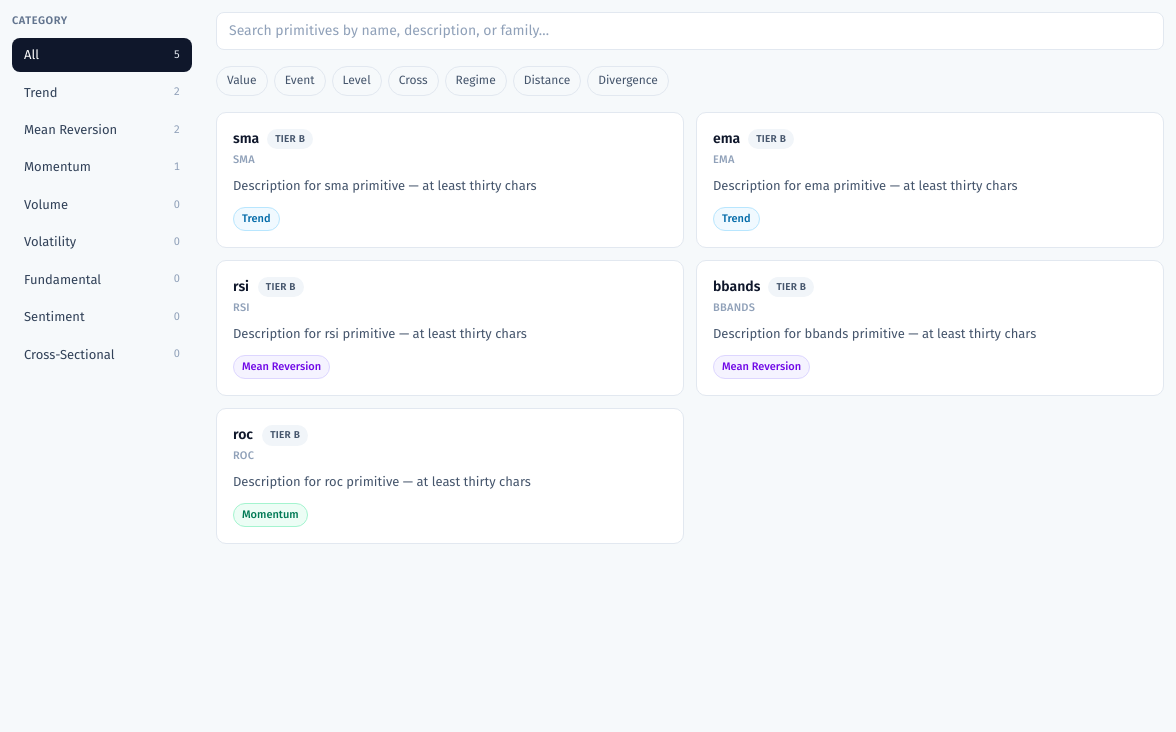
Test: SignalCatalogBrowser › shows empty state when no primitives match
The width and height of the screenshot is (1176, 732).
expect the text "sma" is shown: met, box [233,129,259,149]
Type "definitely-not-in-the-catalog-xyzzy" into the search field with test id "catalog-search" at (690, 31), box [216,12,1164,50]
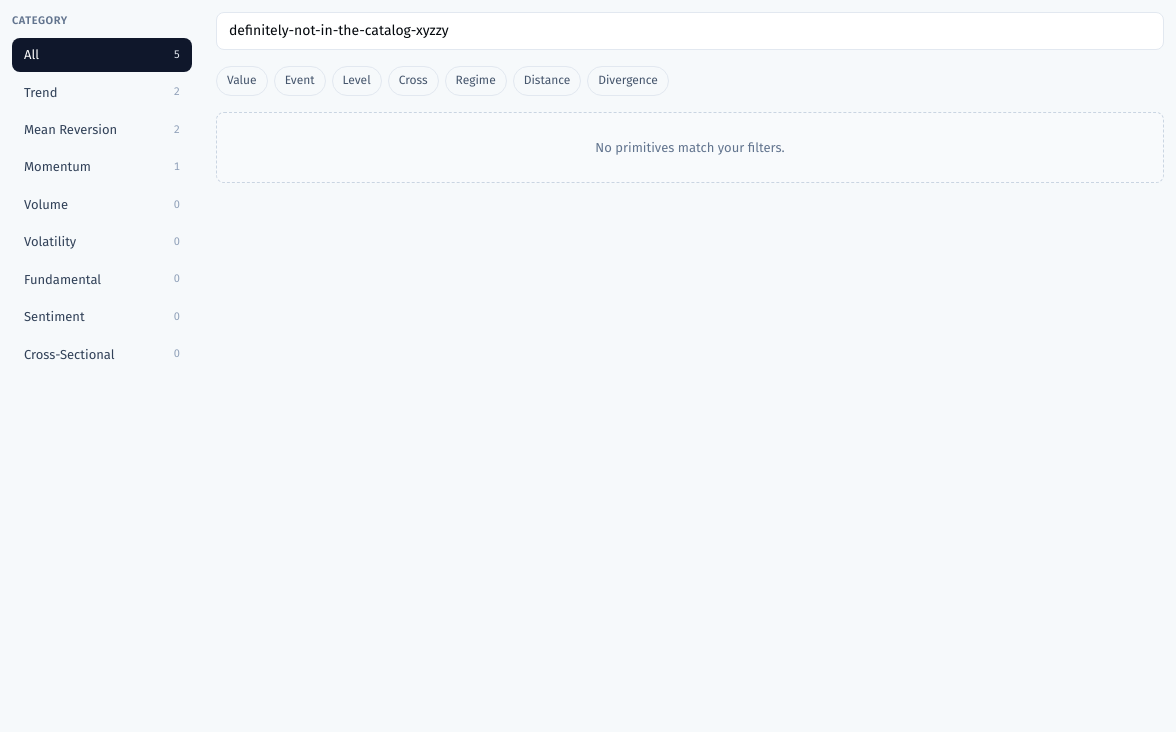
expect the text "No primitives match your filters." is shown: met, box [216,112,1164,183]
